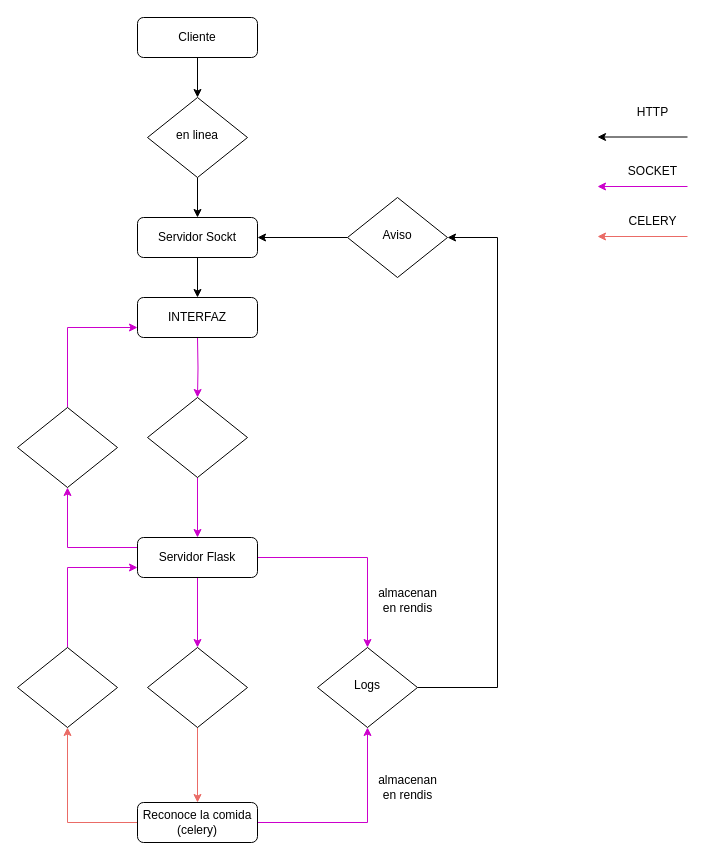
This 713x860 diagram has some shape labels left out. The shapes that lost their labels are listed below. From the top down, each one's box as (x1, y1, x2, y2) in pixels, then its label:
(16, 406, 118, 488): respueta
(146, 396, 248, 478): datos
(16, 646, 118, 728): respuesta
(146, 646, 248, 728): AI
